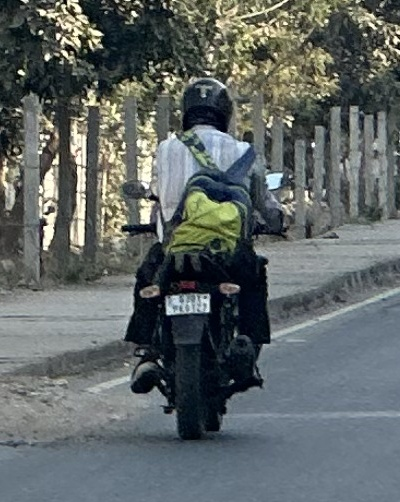BikeWithRider: (112, 71, 299, 446)
Helmet: (172, 71, 241, 138)
